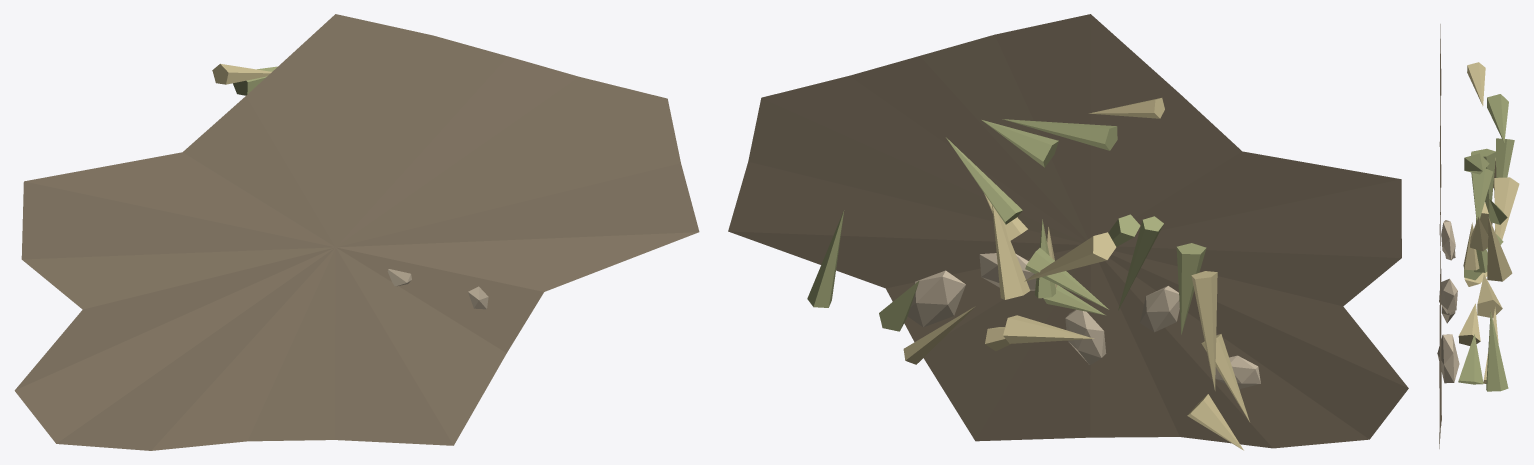
Rendered from dry-scrub-cluster.glb.
3 renders of one model, left to right at view 1: azimuth 30°, elevation 25°; view 2: azimuth 150°, elevation 25°; view 3: azimuth 270°, elevation 25°, orthographic. The views are drawn at different scales.
Parts seen in each view (by area): view 1: scrub_soil_patch, scrub_stem_06; view 2: scrub_soil_patch, scrub_pebble_04, scrub_stem_04, scrub_stem_08, scrub_stem_19, scrub_stem_14, scrub_stem_02, scrub_pebble_02, scrub_stem_17, scrub_stem_13, scrub_pebble_01, scrub_stem_11 (+11 smaller); view 3: scrub_stem_13, scrub_stem_08, scrub_stem_14, scrub_pebble_04, scrub_soil_patch, scrub_stem_05, scrub_stem_19, scrub_stem_02, scrub_stem_01, scrub_stem_09, scrub_stem_10, scrub_stem_06 (+13 smaller).
Boxes of the visible parts, x1=… form: scrub_soil_patch: x1=14, y1=14, x2=699, y2=450; scrub_stem_06: x1=212, y1=63, x2=271, y2=84; scrub_soil_patch: x1=728, y1=14, x2=1408, y2=448; scrub_pebble_04: x1=907, y1=270, x2=965, y2=327; scrub_stem_04: x1=1191, y1=271, x2=1217, y2=390; scrub_stem_08: x1=992, y1=205, x2=1030, y2=299; scrub_stem_19: x1=1002, y1=119, x2=1117, y2=150; scrub_stem_14: x1=1024, y1=232, x2=1116, y2=281; scrub_stem_02: x1=1003, y1=315, x2=1094, y2=343; scrub_pebble_02: x1=1065, y1=309, x2=1106, y2=364; scrub_stem_17: x1=1176, y1=243, x2=1206, y2=334; scrub_stem_13: x1=807, y1=210, x2=844, y2=307; scrub_pebble_01: x1=1140, y1=286, x2=1179, y2=332; scrub_stem_11: x1=982, y1=120, x2=1058, y2=167; scrub_stem_13: x1=1486, y1=311, x2=1508, y2=391; scrub_stem_08: x1=1487, y1=217, x2=1512, y2=281; scrub_stem_14: x1=1494, y1=177, x2=1519, y2=239; scrub_pebble_04: x1=1437, y1=334, x2=1459, y2=383; scrub_soil_patch: x1=1439, y1=24, x2=1441, y2=448; scrub_stem_05: x1=1458, y1=334, x2=1483, y2=384; scrub_stem_19: x1=1487, y1=94, x2=1508, y2=142; scrub_stem_02: x1=1477, y1=274, x2=1502, y2=317; scrub_stem_01: x1=1471, y1=168, x2=1492, y2=219; scrub_stem_09: x1=1496, y1=138, x2=1514, y2=177; scrub_stem_10: x1=1458, y1=303, x2=1480, y2=345; scrub_stem_06: x1=1467, y1=62, x2=1485, y2=105.
Size of the model in its own units: 3.78 by 2.42 by 0.52.
